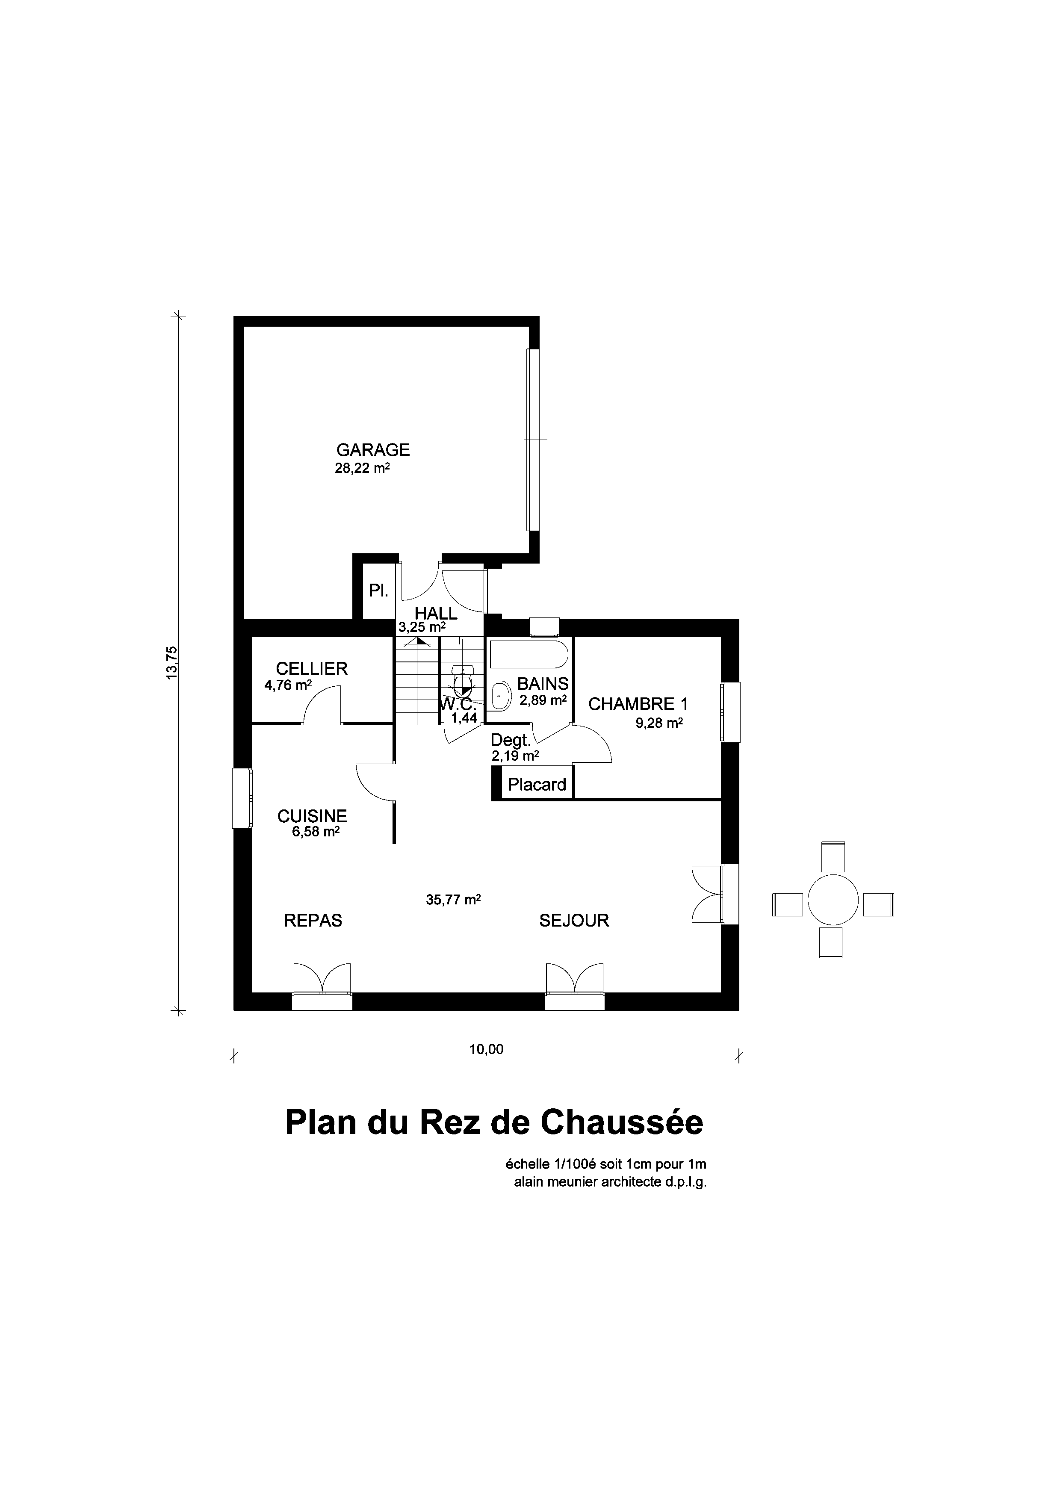ceramic sink: (488, 680, 513, 713)
door: (442, 568, 488, 615), (399, 560, 443, 602), (301, 685, 344, 726), (356, 761, 396, 805), (572, 722, 611, 765), (530, 721, 572, 745), (441, 722, 484, 745)
toilet: (451, 665, 474, 700)
window: (691, 864, 740, 925), (544, 962, 605, 1011), (293, 962, 353, 1011), (232, 767, 254, 829), (720, 682, 741, 743), (529, 616, 560, 638)
